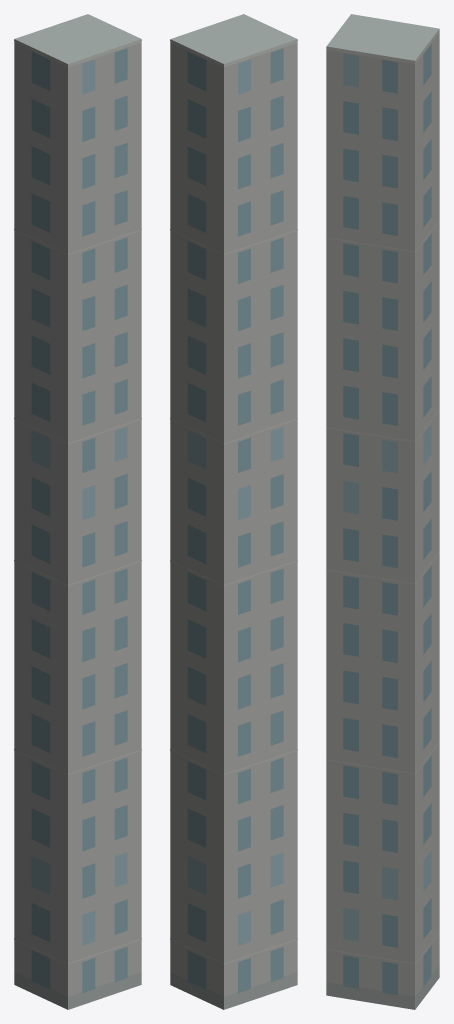
Rendered from survey-upis-32905512.glb.
3 renders of one model, left to right at view 1: azimuth 30°, elevation 25°; view 2: azimuth 210°, elevation 25°; view 3: azimuth 330°, elevation 25°, orthographic.
Visible parts, largest first — view 1: survey-upis-32905512.tmp; view 2: survey-upis-32905512.tmp; view 3: survey-upis-32905512.tmp.
Boxes of the visible parts, x1,y1,x2,y2 form: survey-upis-32905512.tmp: (14,14,141,1009); survey-upis-32905512.tmp: (170,14,297,1009); survey-upis-32905512.tmp: (326,14,439,1009).
Size of the model in its own units: 7 by 65.9 by 5.88.
